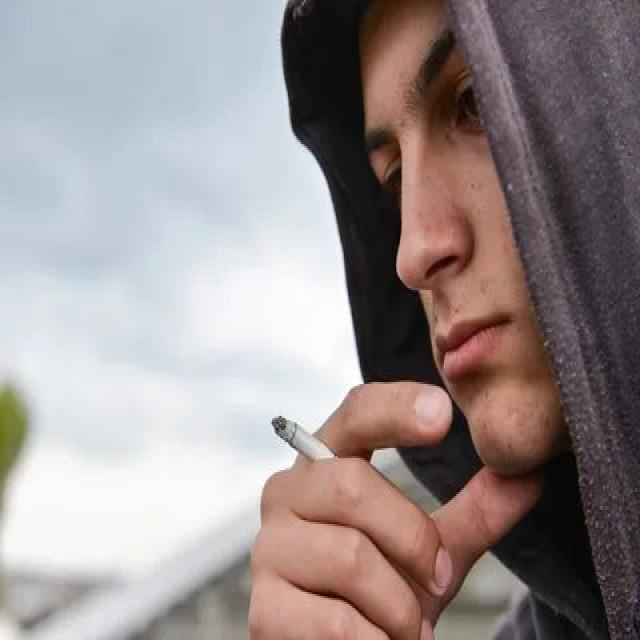smoke: (268, 410, 344, 480)
